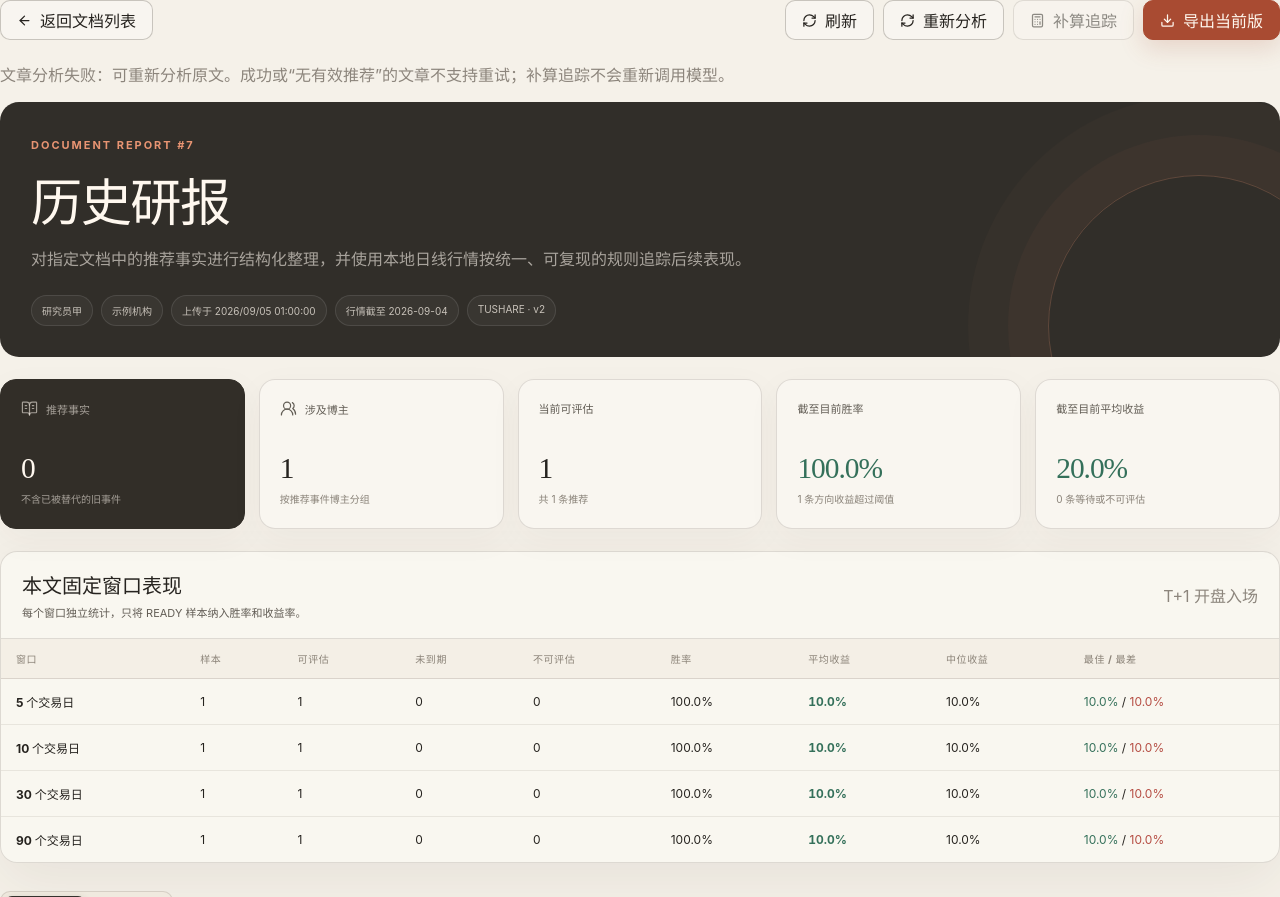
it: DocumentReportDetailView › keeps success non-retryable even if refreshing the report fails
This screenshot has width=1280, height=897.
Step 1. Click the button with test id "retry-analysis" → (944, 20), box [883, 0, 1004, 40]
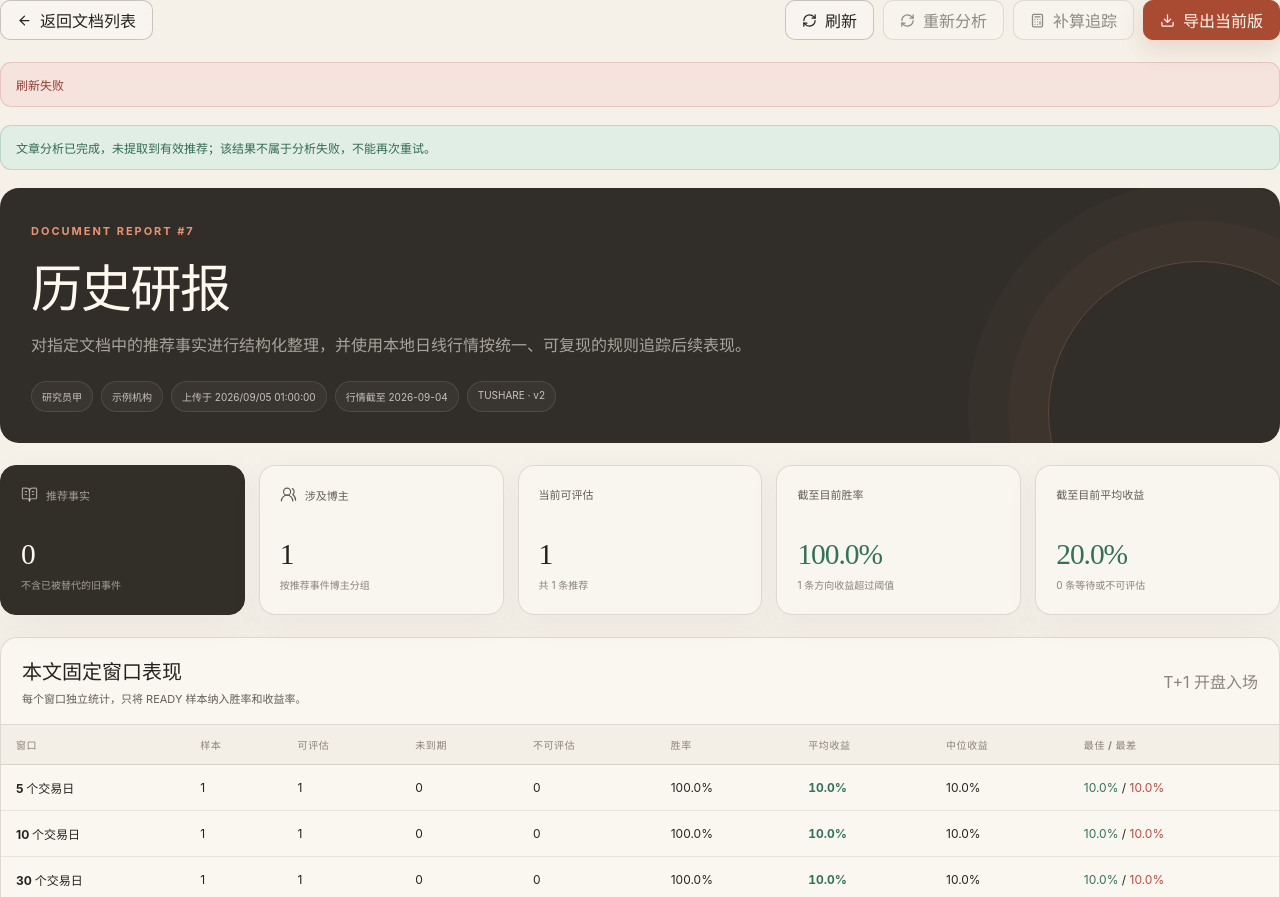
Result: the button with test id "retry-analysis" is disabled at [883, 0, 1004, 40]
Result: the text "未提取到有效推荐" is shown at [16, 141, 436, 156]
